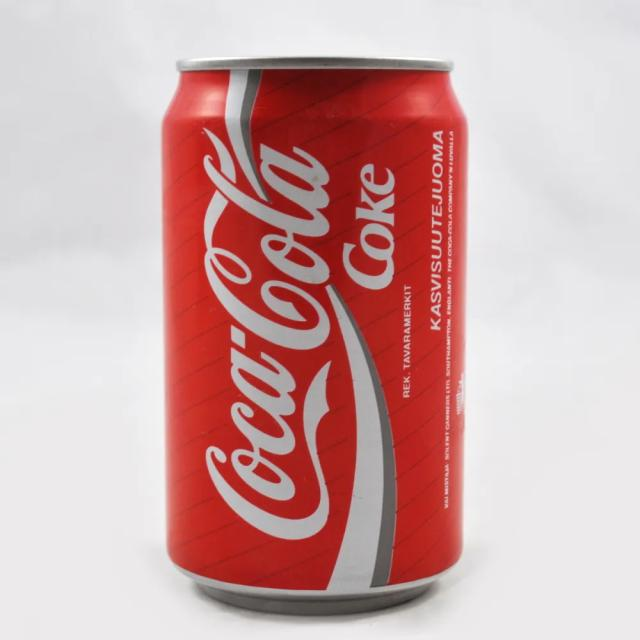cocacola: (155, 55, 468, 617)
